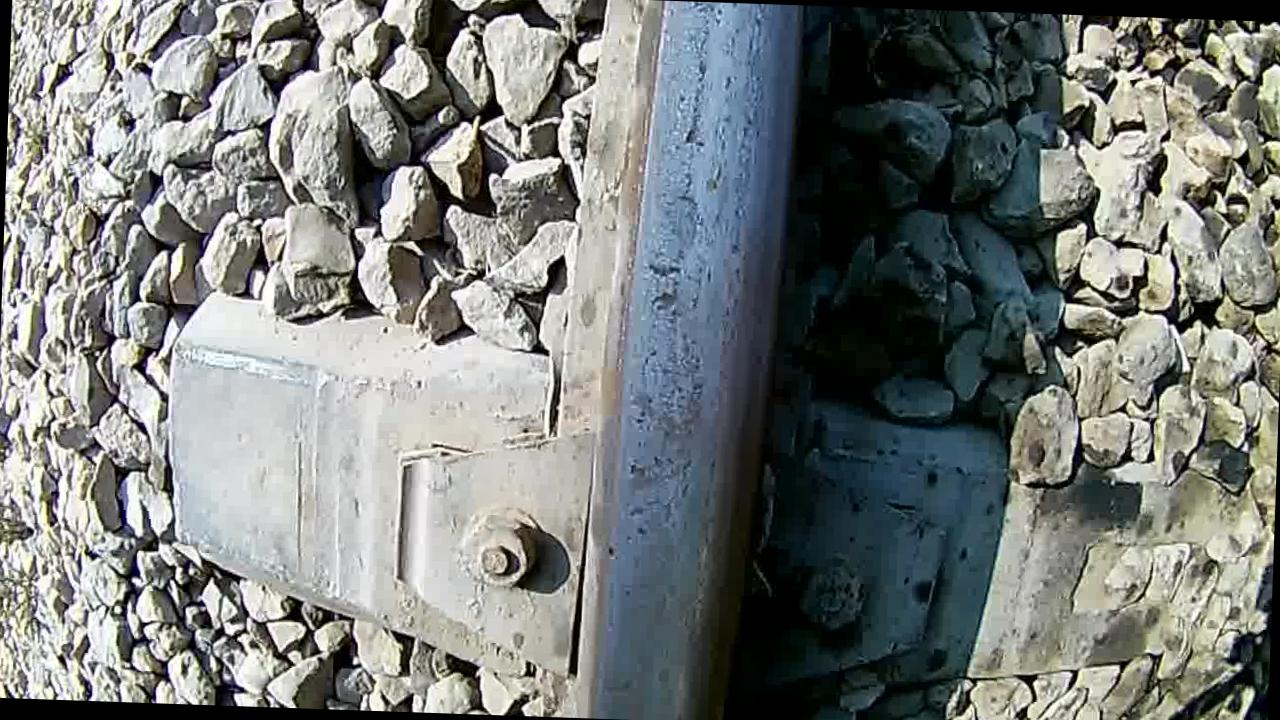crack: (592, 0, 797, 720)
